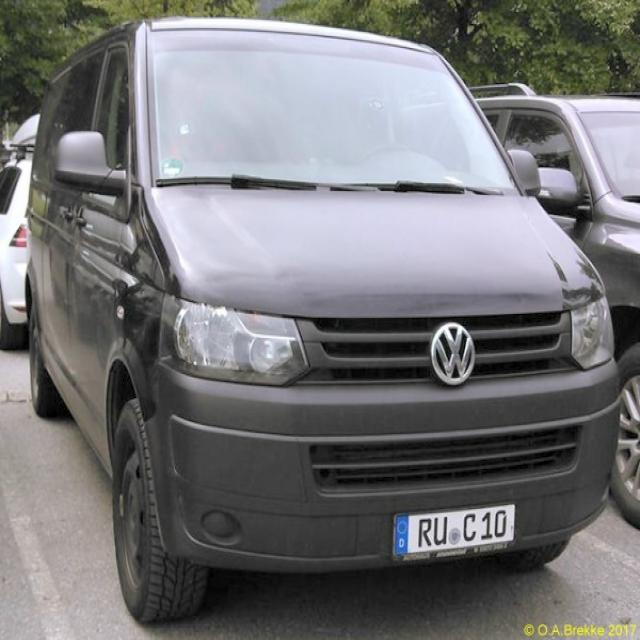license-plates: (394, 506, 516, 562)
